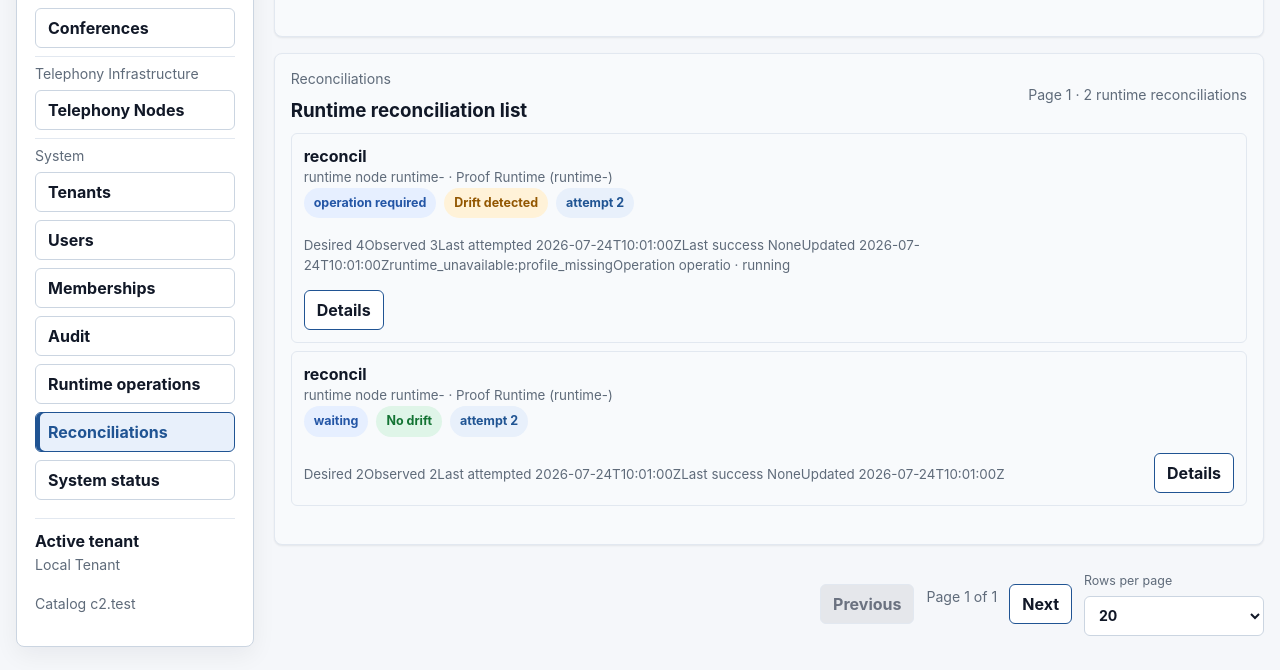
C1 App shell › handles Runtime Reconciliation empty, forbidden, validation, and not-found states
(page scrolled)
Click the button "Details" below "runtime_unavailable:profile_missing" at x=344, y=310, box left=304, top=290, right=384, bottom=330
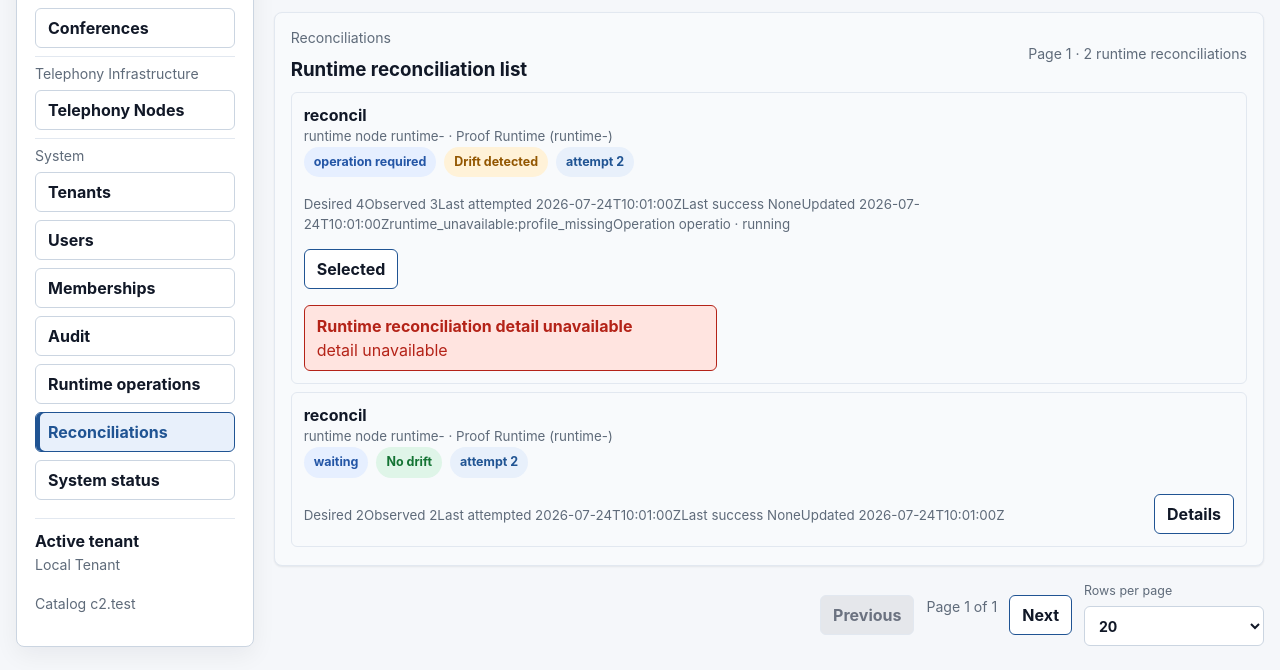
Expected: the text "Runtime reconciliation detail unavailable" is shown, left=317, top=316, right=632, bottom=336
